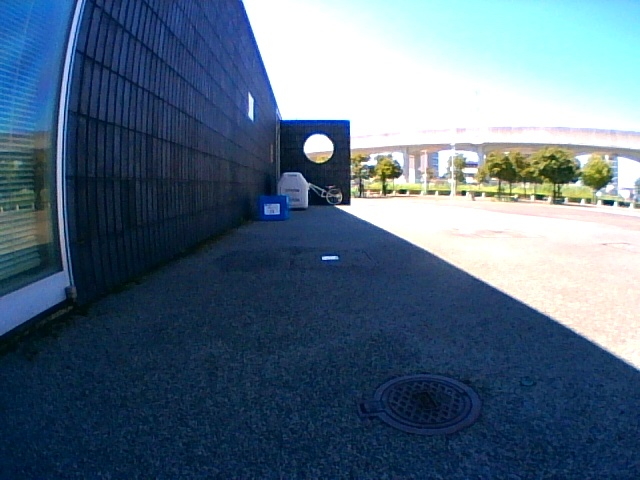blue_box: (260, 195, 288, 220)
tag: (265, 203, 280, 215)
